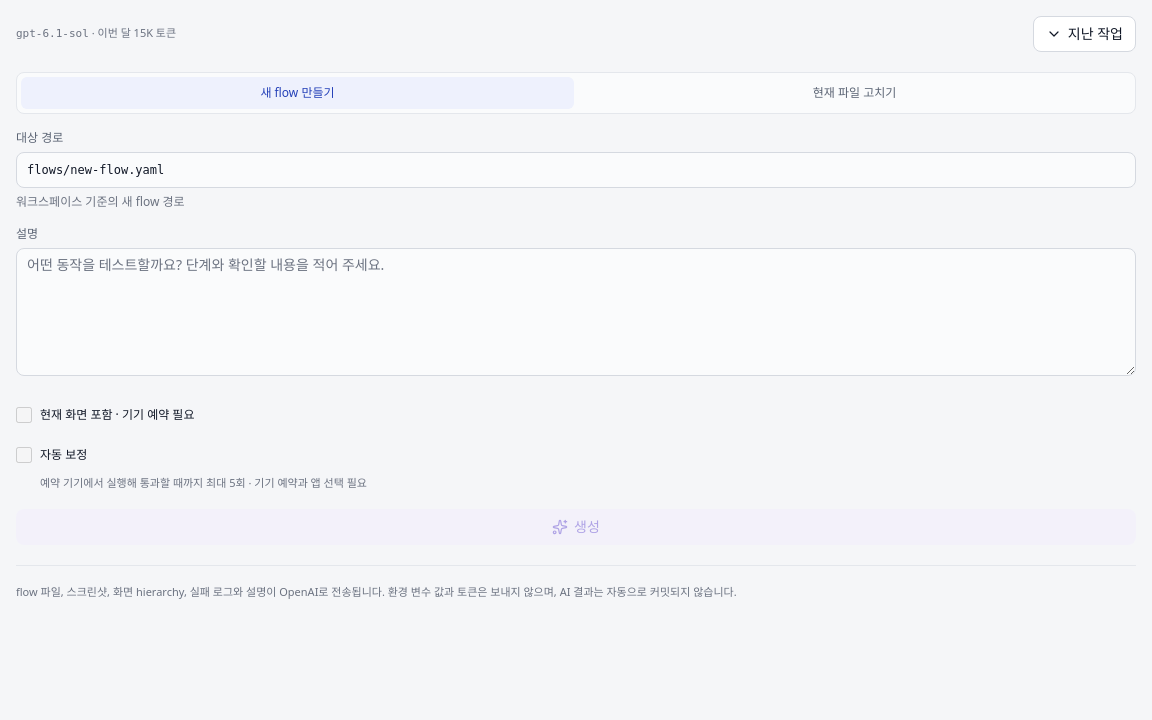
Test: current-file mode submits generate for the active file with a read-only target and explicit build
Later steps or results of the test are not shown.
Expected: the text box labelled "설명" is shown, x1=16 y1=248 x2=1136 y2=376
Click the radio button labelled "현재 파일 고치기" at (854, 93), box x1=578 y1=77 x2=1131 y2=109
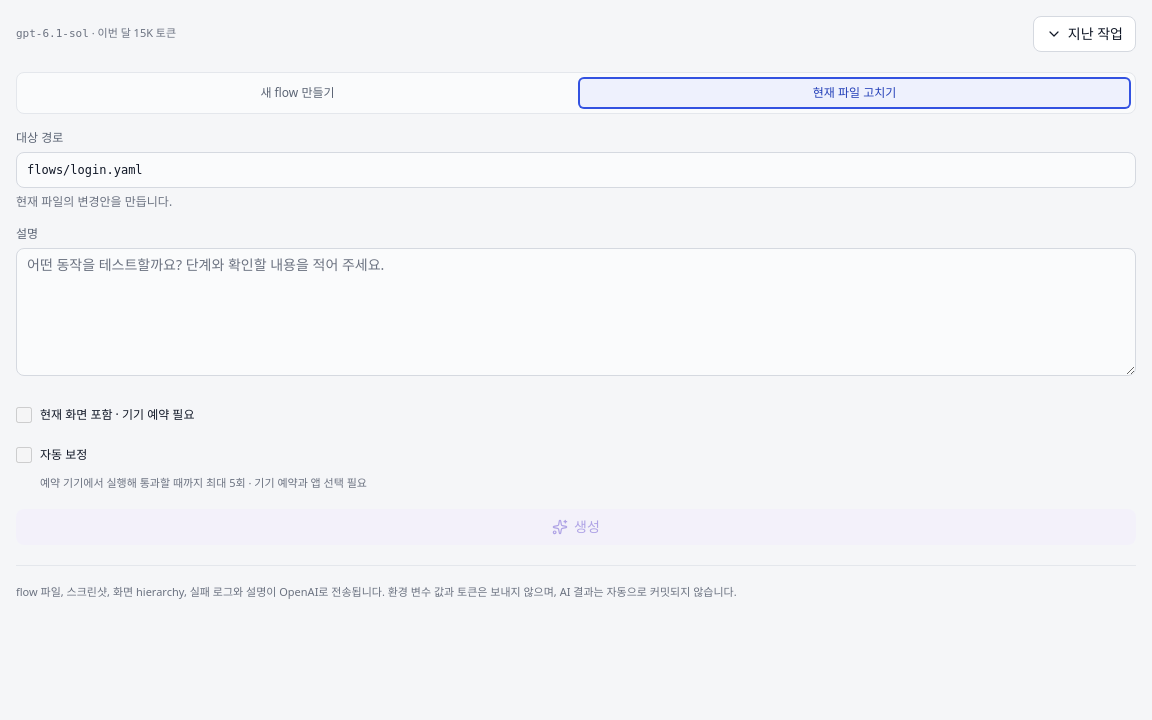
Now the field labelled "대상 경로" holds "flows/login.yaml", box x1=16 y1=152 x2=1136 y2=188
